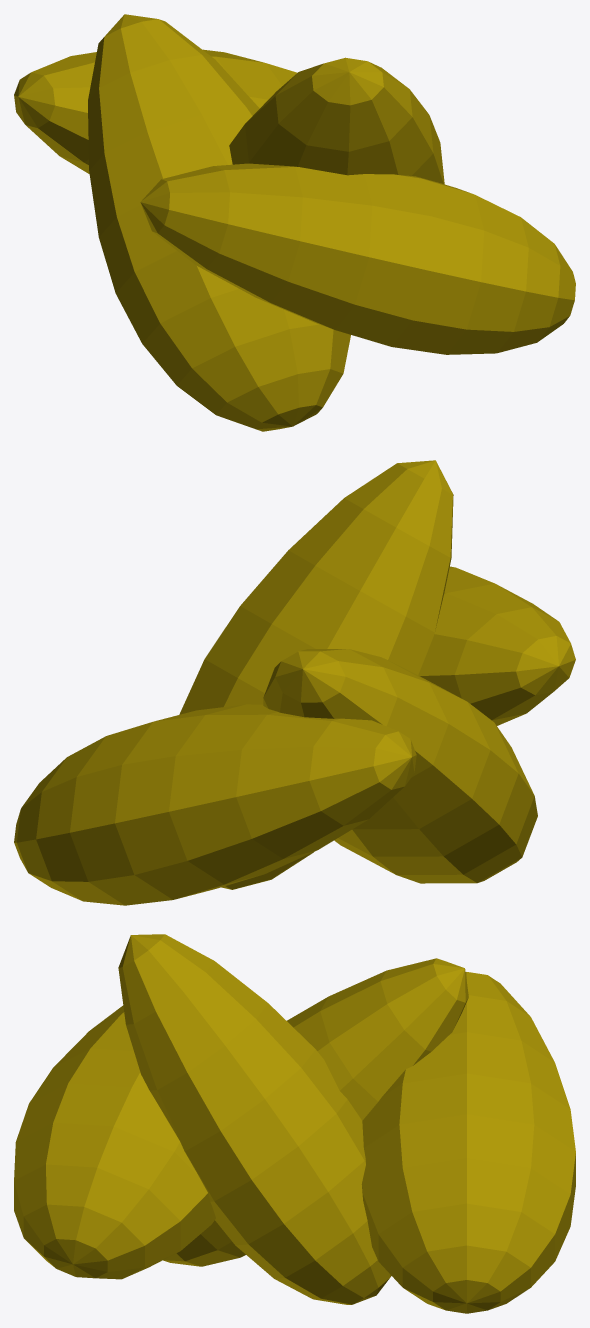
Rendered from Seeds.fbx.
3 renders of one model, top to bottom at view 1: azimuth 30°, elevation 25°; view 2: azimuth 150°, elevation 25°; view 3: azimuth 270°, elevation 25°, orthographic. The views are drawn at different scales.
Parts seen in each view (by area): view 1: Seed_3, Seed_2, Seed_1, Seed_4; view 2: Seed_4, Seed_1, Seed_2, Seed_3; view 3: Seed_1, Seed_4, Seed_3, Seed_2.
Boxes of the visible parts, x1,y1,x2,y2 form: Seed_3: (140, 163, 575, 354); Seed_2: (88, 14, 350, 431); Seed_1: (229, 57, 444, 184); Seed_4: (14, 49, 297, 173); Seed_4: (14, 704, 416, 905); Seed_1: (179, 460, 453, 889); Seed_2: (263, 649, 537, 883); Seed_3: (418, 566, 575, 725); Seed_1: (118, 934, 391, 1304); Seed_4: (361, 972, 575, 1313); Seed_3: (14, 1005, 215, 1279); Seed_2: (163, 958, 468, 1266).
Bounding box in the file's own units: 1.63 × 1.49 × 2.2.
